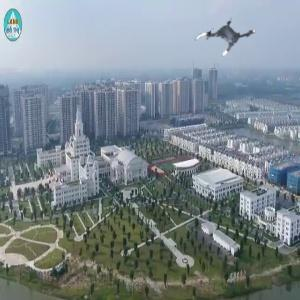drone: (197, 12, 252, 67)
